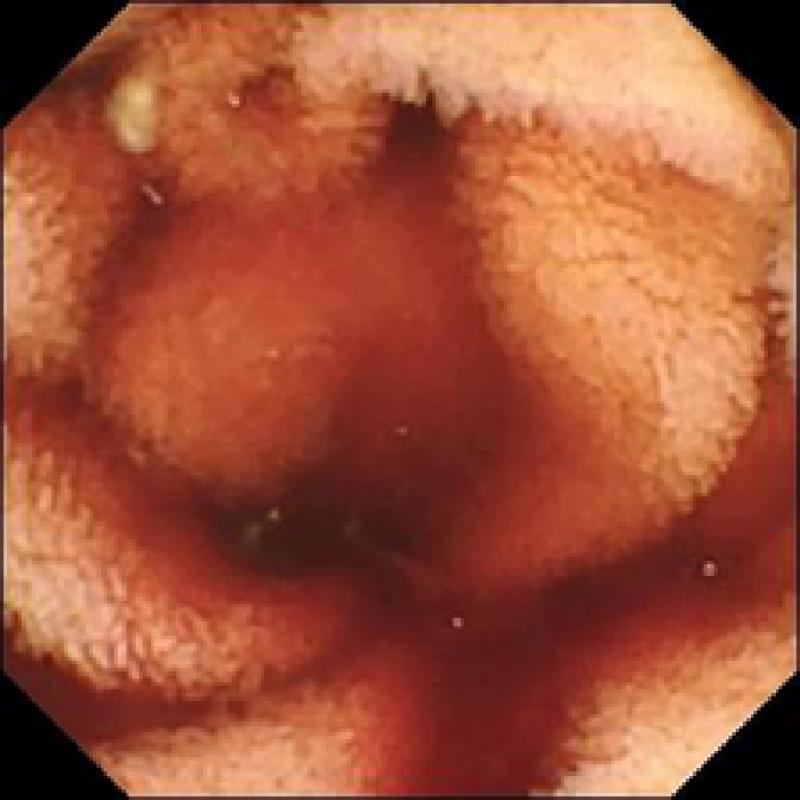bleeding: (25, 114, 786, 793)
